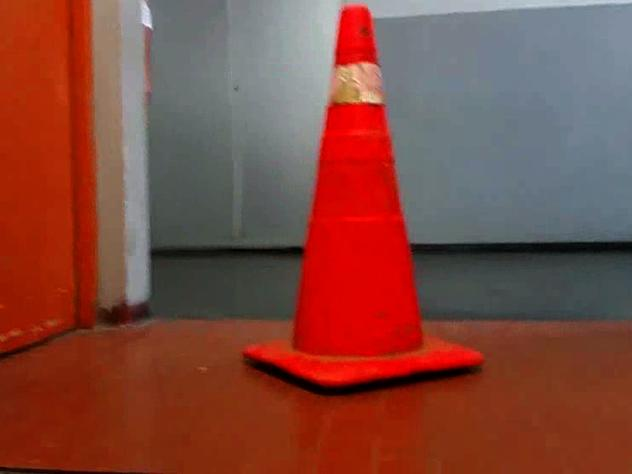0 cone: (244, 4, 484, 386)
